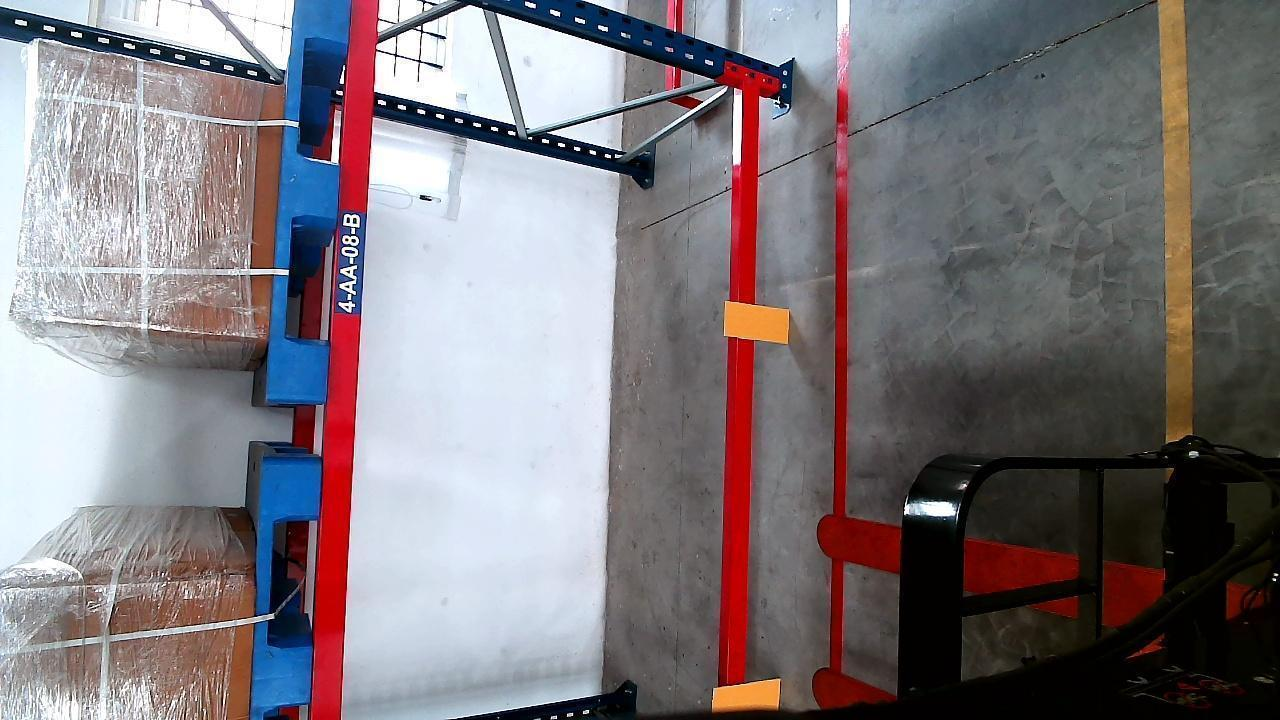red_line: (830, 0, 850, 668)
yellow_line: (1161, 0, 1196, 437)
